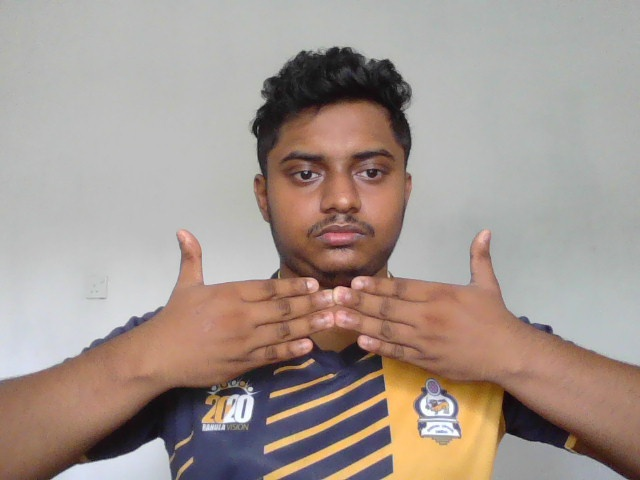Thank You: (161, 226, 514, 391)
